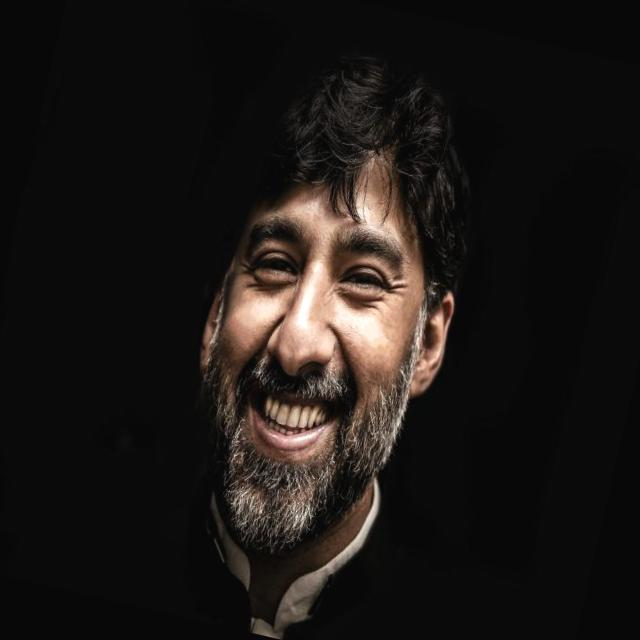person: (78, 6, 603, 640)
